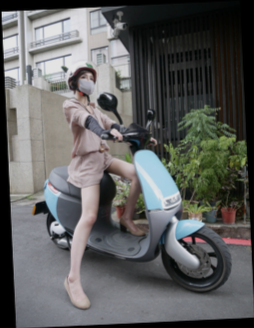with_mask: (74, 73, 95, 94)
